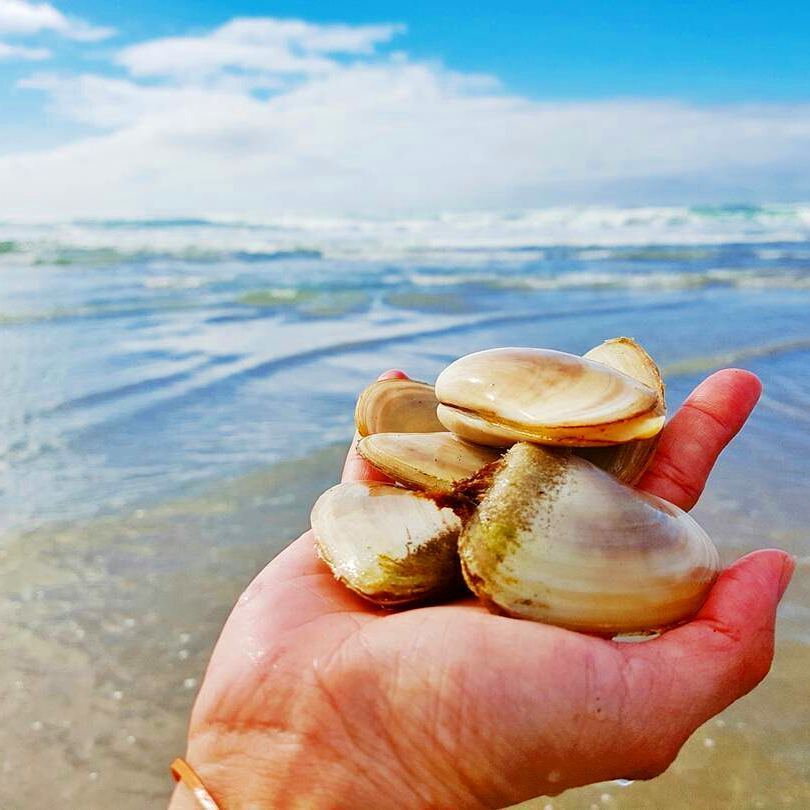tuatua: (451, 434, 723, 633), (431, 343, 662, 446), (306, 477, 460, 602), (349, 427, 490, 490)
